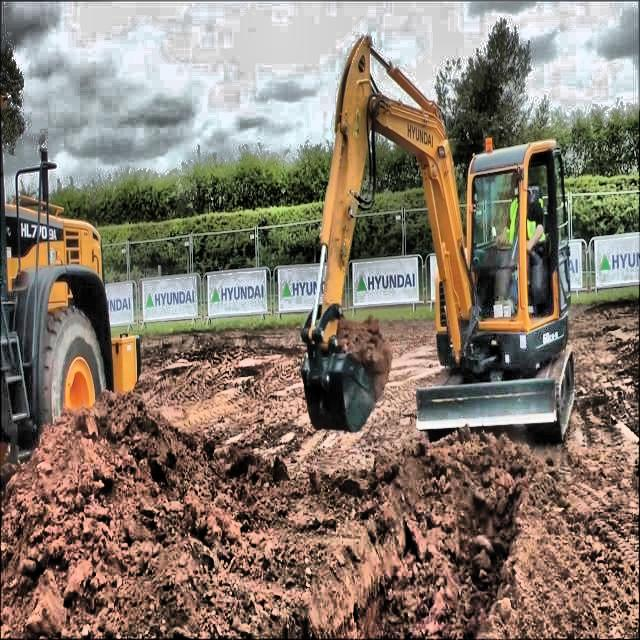bull_dozer/loader/grader: (0, 90, 142, 490)
excavator: (298, 34, 576, 448)
